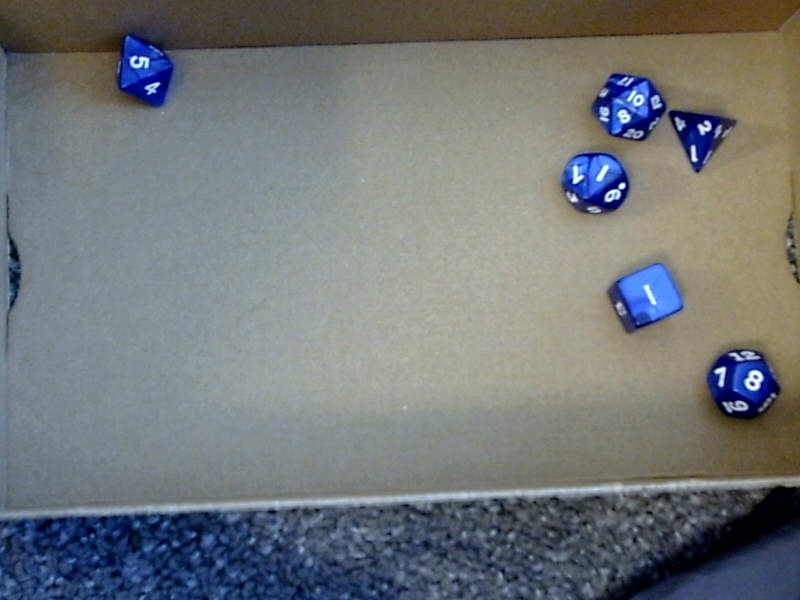d10 1: (555, 147, 632, 219)
d12 8: (703, 344, 781, 419)
d20 10: (584, 66, 669, 141)
d4 2: (666, 98, 742, 174)
d6 1: (603, 256, 684, 333)
d8 5: (110, 23, 177, 111)
